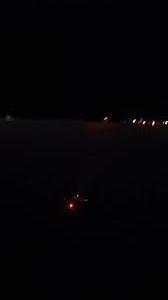Plane: (54, 185, 95, 216)
